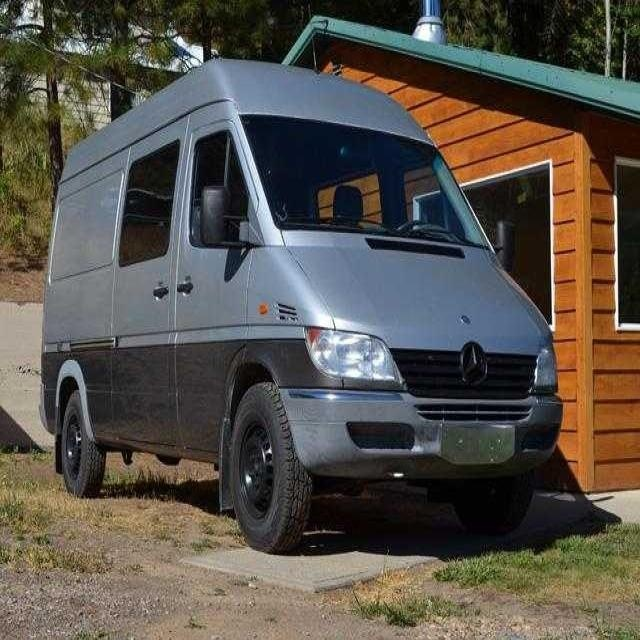Van: (43, 49, 570, 551)
